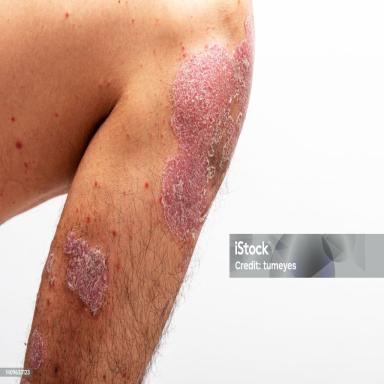Psoriasis: (162, 15, 254, 241), (65, 232, 107, 315), (30, 329, 43, 370), (44, 252, 55, 286)
